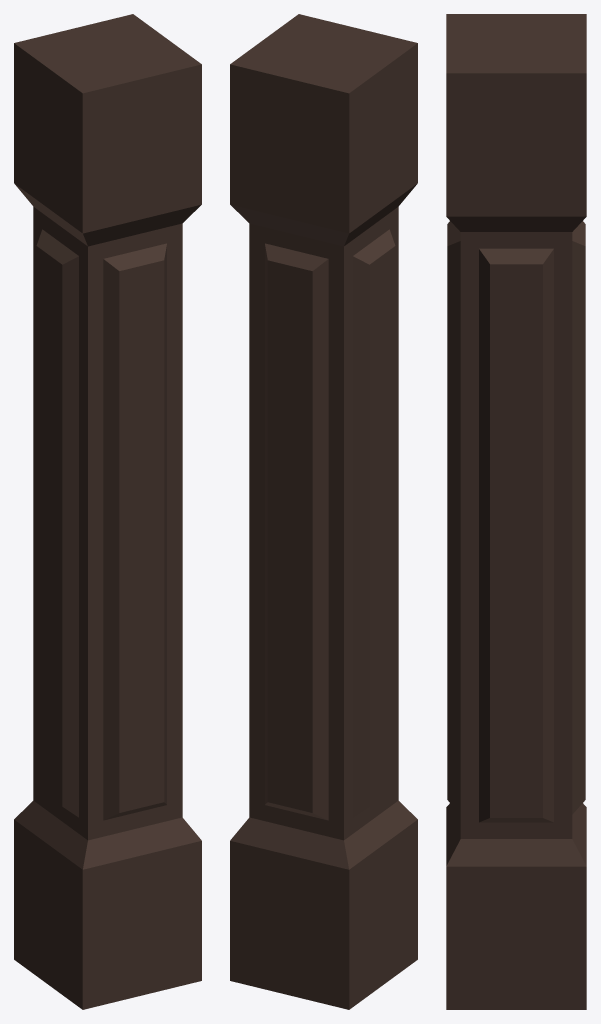
Rendered from LPHorror_Pillar.fbx.
The picture shows the model from 3 angles, left to right: view 1: azimuth 30°, elevation 25°; view 2: azimuth 150°, elevation 25°; view 3: azimuth 270°, elevation 25°; orthographic projection. The views are drawn at different scales.
Parts seen in each view (by area): view 1: Pillar; view 2: Pillar; view 3: Pillar.
Boxes of the visible parts, x1,y1,x2,y2 form: Pillar: (14,14,201,1009); Pillar: (230,14,417,1009); Pillar: (446,14,586,1009).
Bounding box in the file's own units: 40.82 × 300 × 40.82.
